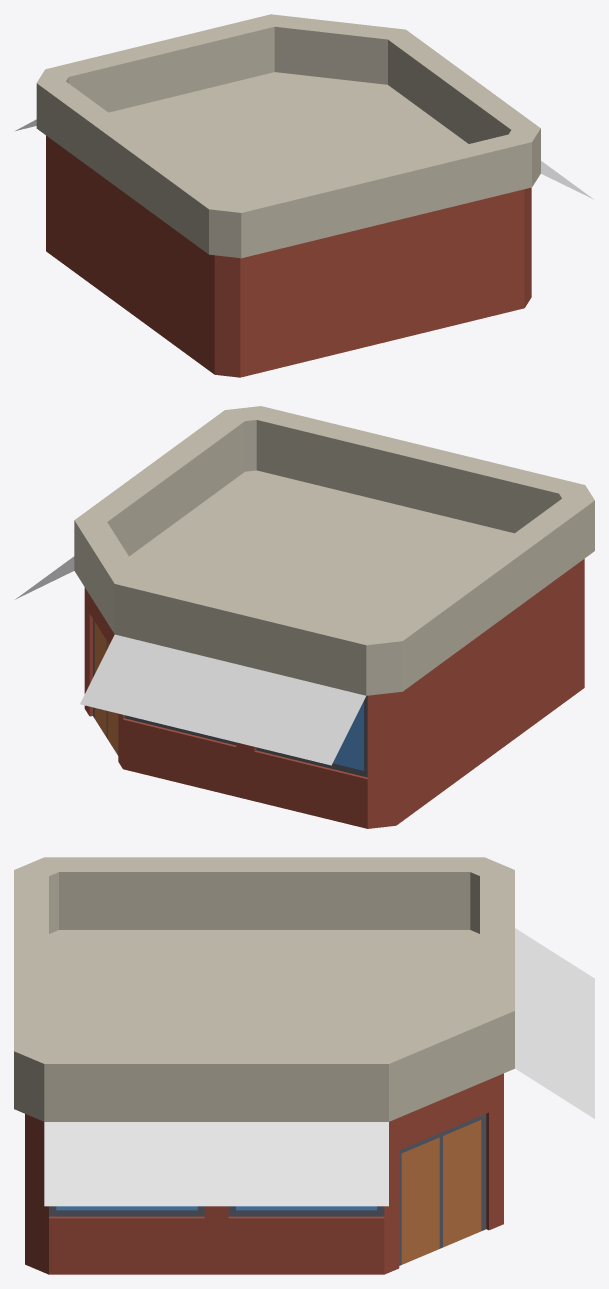
Rendered from cafe_r3.fbx.
The picture shows the model from 3 angles, top to bottom: view 1: azimuth 30°, elevation 25°; view 2: azimuth 150°, elevation 25°; view 3: azimuth 270°, elevation 25°; orthographic projection. The views are drawn at different scales.
Visible parts, largest first — view 1: Cafe1; view 2: Cafe1; view 3: Cafe1.
Part boxes in pixels (x1,y1,x2,y2): Cafe1: [15, 14, 593, 377]; Cafe1: [15, 406, 594, 828]; Cafe1: [14, 857, 594, 1274].
Bounding box in the file's own units: 7130 × 2976 × 7277.
